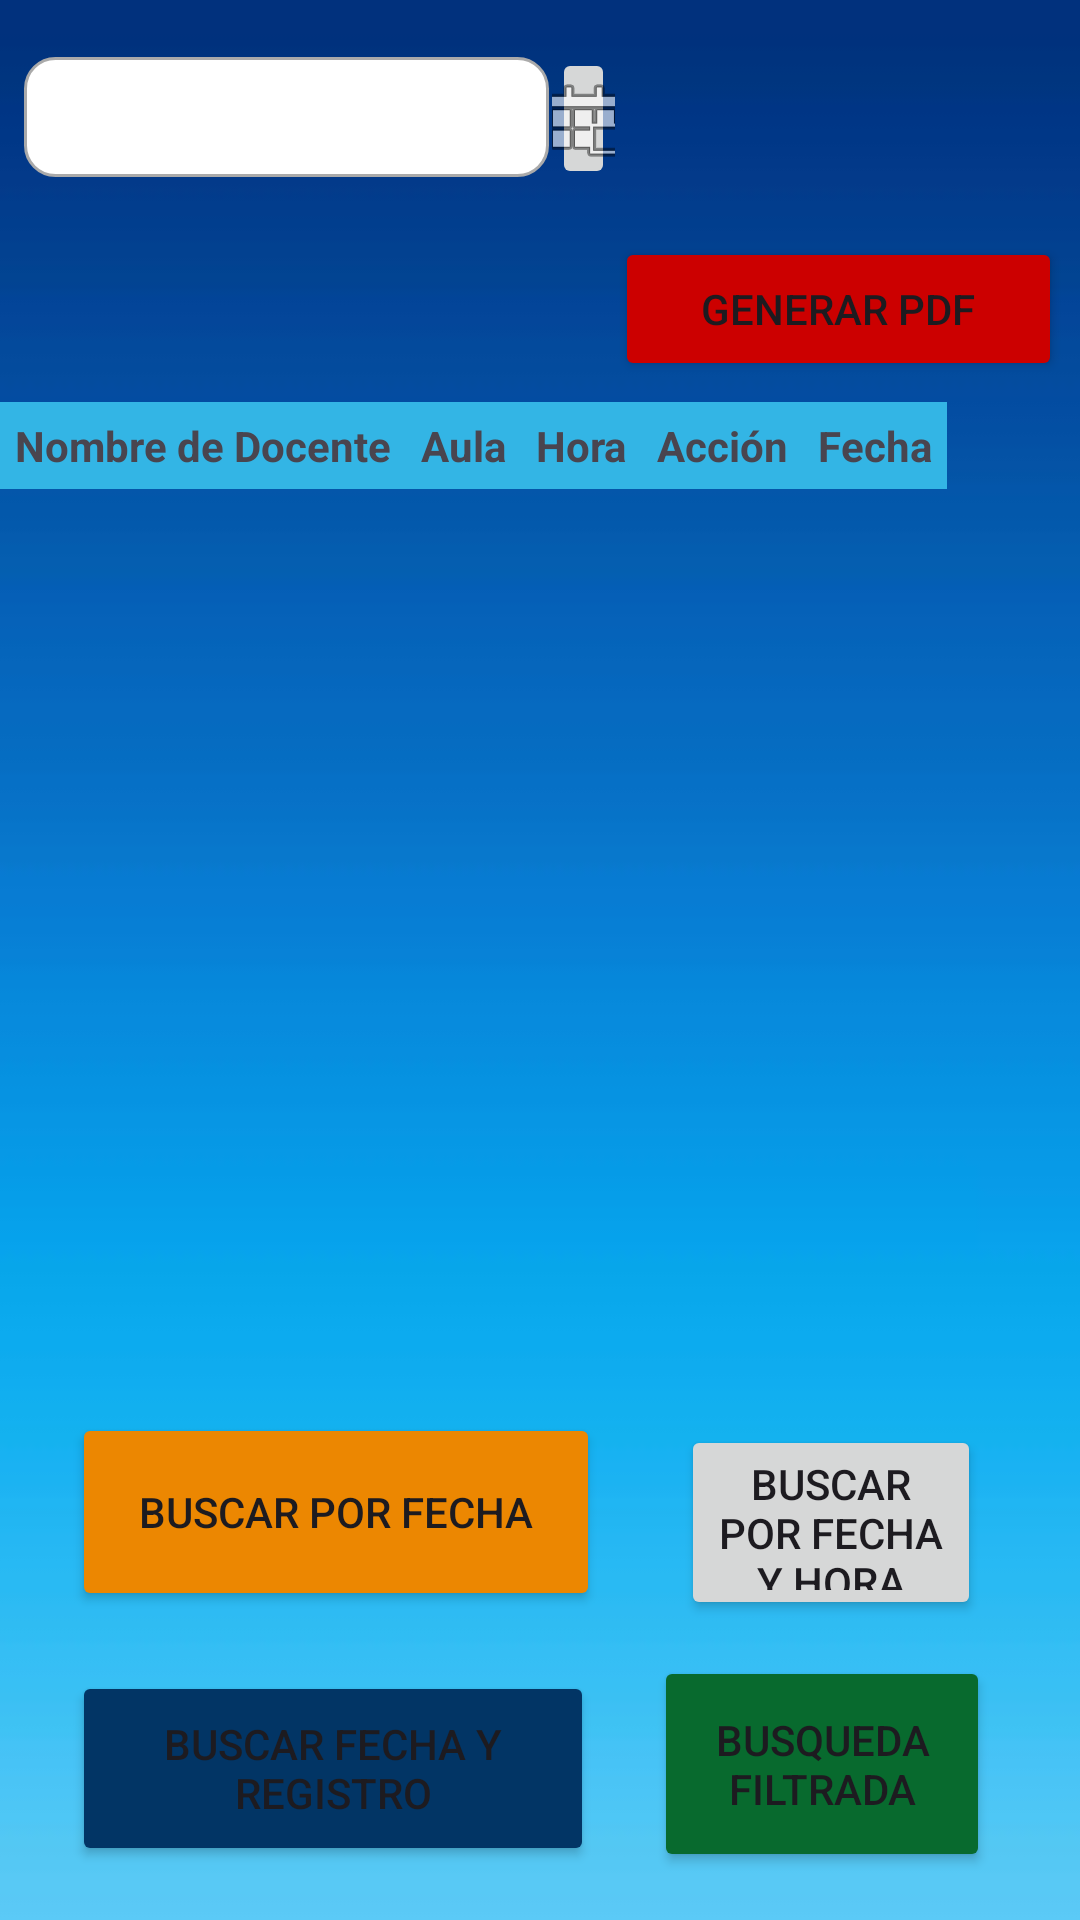

Icons on this 1080px×1920px Android screen, each with the point to tap as point (x, y):
today: point (583, 118)
